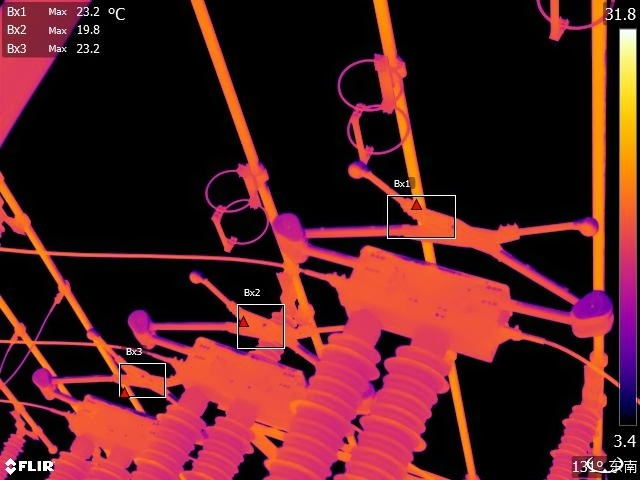post insulator: (260, 318, 374, 480), (341, 343, 465, 480), (517, 396, 604, 480), (128, 398, 203, 480), (181, 408, 265, 480), (43, 439, 97, 480), (88, 442, 133, 480)
switch: (276, 144, 616, 339), (136, 256, 337, 408), (30, 342, 195, 438)
